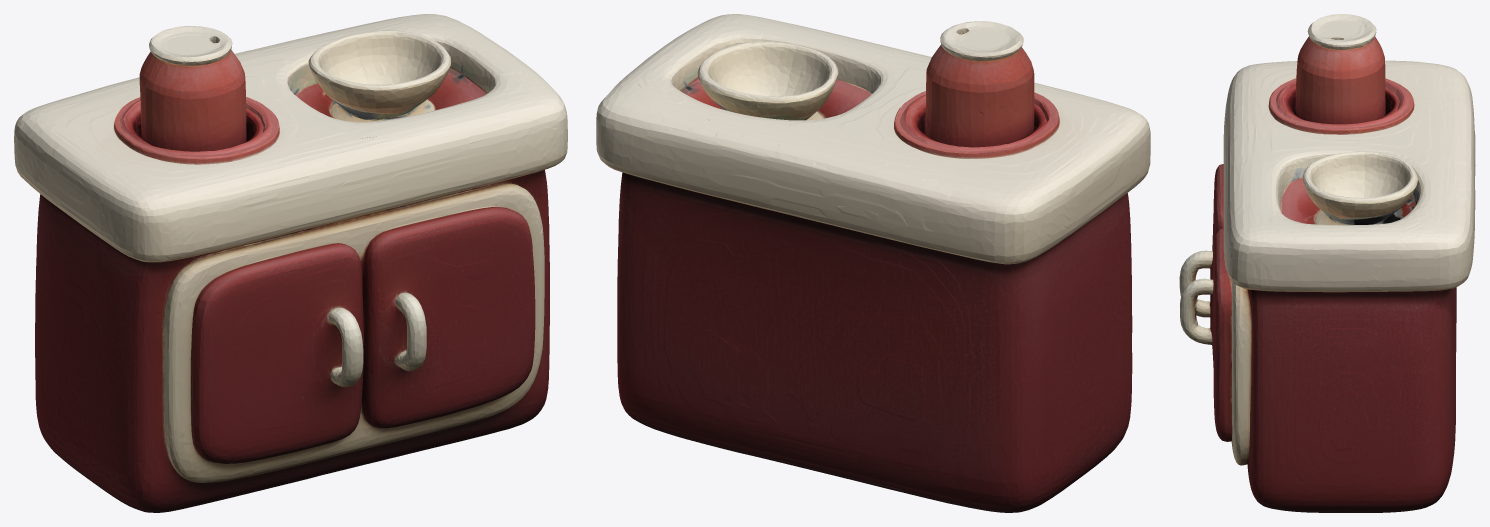
File: KR_사물_s1_redbean_station_v2.glb
The picture shows the model from 3 angles, left to right: view 1: azimuth 30°, elevation 25°; view 2: azimuth 150°, elevation 25°; view 3: azimuth 270°, elevation 25°; orthographic projection. The views are drawn at different scales.
Parts seen in each view (by area): view 1: world; view 2: world; view 3: world.
Boxes of the visible parts, <box> form: world: <box>14,14,567,512</box>; world: <box>596,14,1150,512</box>; world: <box>1179,14,1475,512</box>.
Size of the model in its own units: 1 by 0.906 by 0.6678.
Materials: 1 (1 with a texture image).
